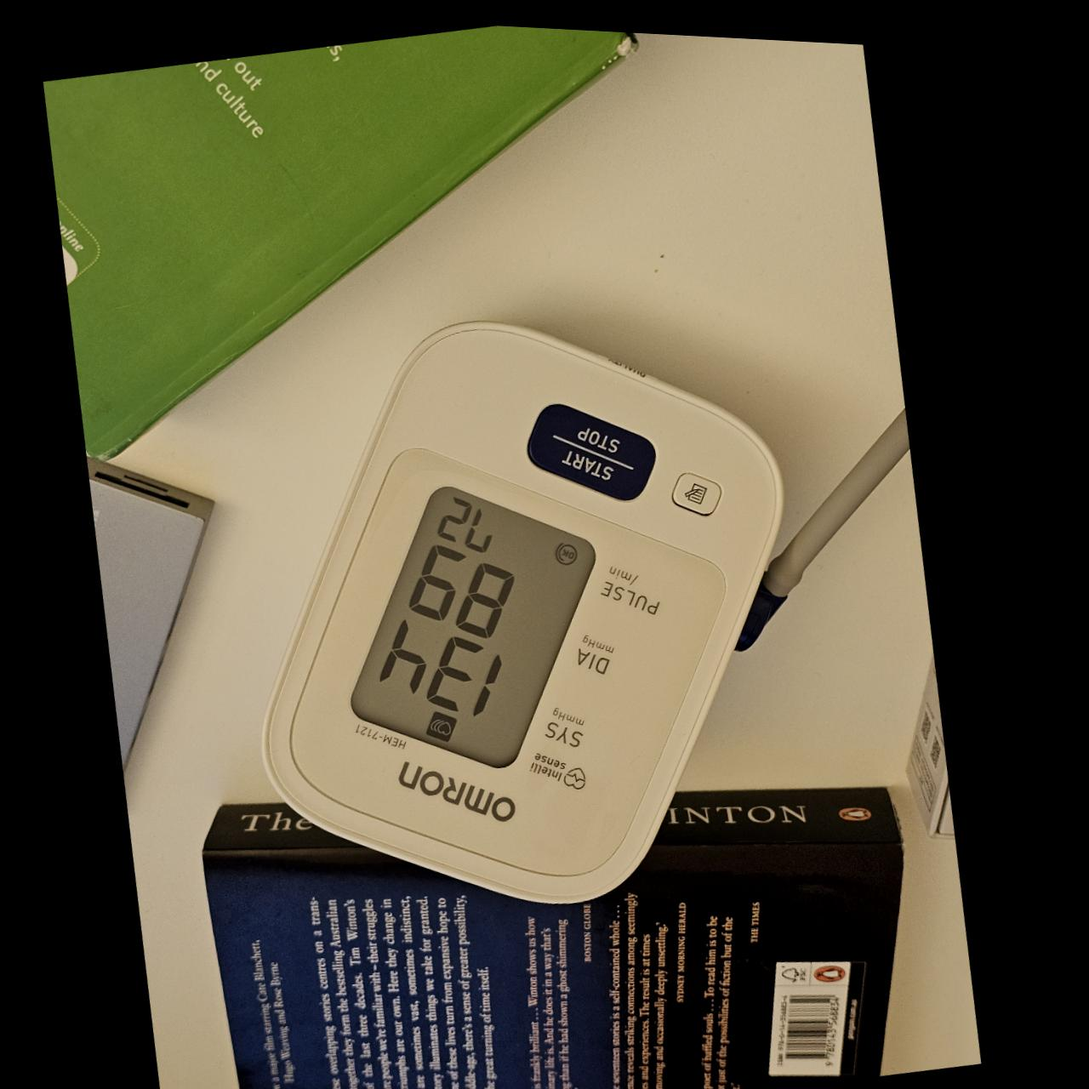blood pressure monitor: (172, 248, 864, 969)
